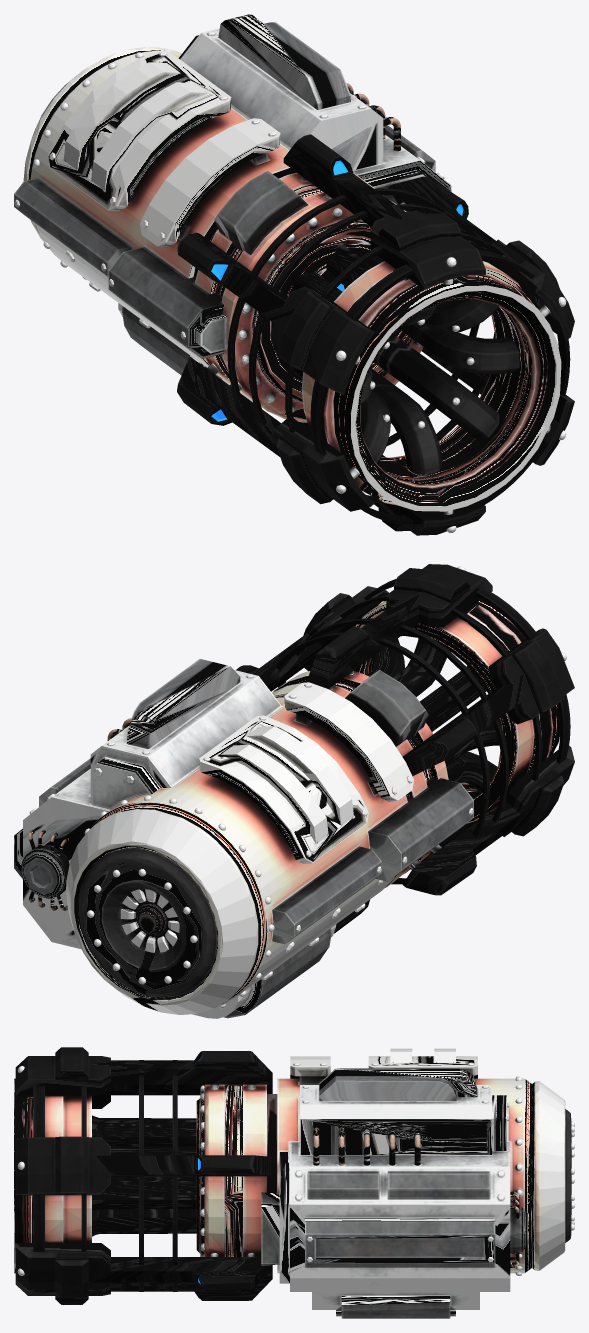
File: thermal_power_plant.glb
3 renders of one model, top to bottom at view 1: azimuth 30°, elevation 25°; view 2: azimuth 150°, elevation 25°; view 3: azimuth 270°, elevation 25°, orthographic. The views are drawn at different scales.
Visible parts, largest first — view 1: 1.001_K_0, 1.001_A_0, 1.001_C_0, 1.001_B_0, 1.001_G_0, 1.001_E_0, 1.001_F_0; view 2: 1.001_K_0, 1.001_G_0, 1.001_C_0, 1.001_B_0, 1.001_A_0, 1.001_E_0, 1.001_F_0; view 3: 1.001_K_0, 1.001_C_0, 1.001_A_0, 1.001_B_0, 1.001_G_0, 1.001_E_0, 1.001_F_0.
Part boxes in pixels (<box>): 1.001_K_0: <box>14,14,451,402</box>; 1.001_A_0: <box>195,173,561,511</box>; 1.001_C_0: <box>177,134,574,535</box>; 1.001_B_0: <box>227,188,570,525</box>; 1.001_G_0: <box>23,46,365,376</box>; 1.001_E_0: <box>15,31,550,514</box>; 1.001_F_0: <box>33,49,566,533</box>; 1.001_K_0: <box>14,659,473,1018</box>; 1.001_G_0: <box>66,697,407,1014</box>; 1.001_C_0: <box>236,564,574,933</box>; 1.001_B_0: <box>275,579,570,884</box>; 1.001_A_0: <box>272,599,560,888</box>; 1.001_E_0: <box>28,671,511,979</box>; 1.001_F_0: <box>84,566,566,1008</box>; 1.001_K_0: <box>225,1048,527,1318</box>; 1.001_C_0: <box>15,1047,272,1304</box>; 1.001_A_0: <box>14,1078,277,1273</box>; 1.001_B_0: <box>33,1060,196,1291</box>; 1.001_G_0: <box>277,1078,571,1273</box>; 1.001_E_0: <box>210,1062,519,1316</box>; 1.001_F_0: <box>17,1066,574,1275</box>.
Bounding box in the file's own units: 0.5411 × 0.4953 × 1.
9 materials, 8 textured.
